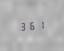one: (37, 19, 45, 29)
six: (28, 20, 36, 30)
three: (18, 21, 26, 31)
